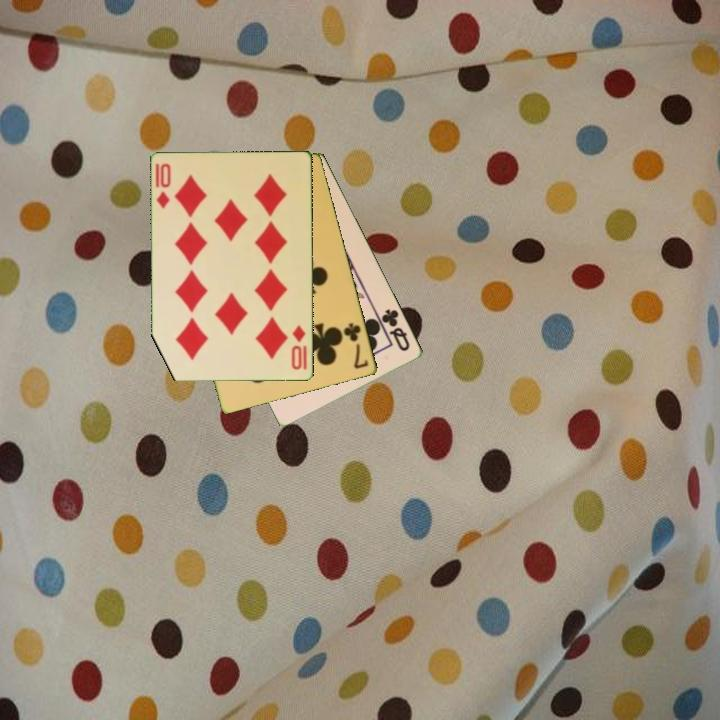10d: (152, 160, 174, 212), (288, 322, 308, 373)
7c: (340, 319, 372, 372)
Qc: (378, 305, 413, 354)
